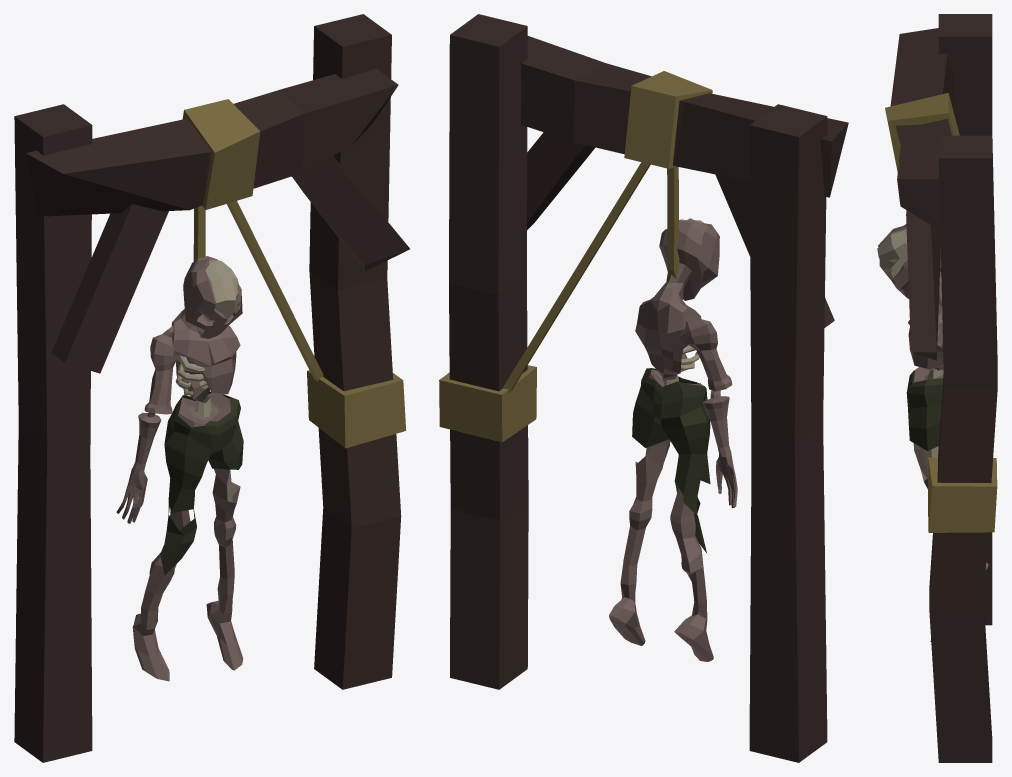
File: decoration2.fbx
The picture shows the model from 3 angles, left to right: view 1: azimuth 30°, elevation 25°; view 2: azimuth 150°, elevation 25°; view 3: azimuth 270°, elevation 25°; orthographic projection. The views are drawn at different scales.
Visible parts, largest first — view 1: Wood_Hanger02; view 2: Wood_Hanger02; view 3: Wood_Hanger02.
Part boxes in pixels (x1=…): Wood_Hanger02: x1=14, y1=14, x2=409, y2=762; Wood_Hanger02: x1=439, y1=14, x2=848, y2=762; Wood_Hanger02: x1=877, y1=14, x2=997, y2=762.
Size of the model in its own units: 499 by 831 by 150.
